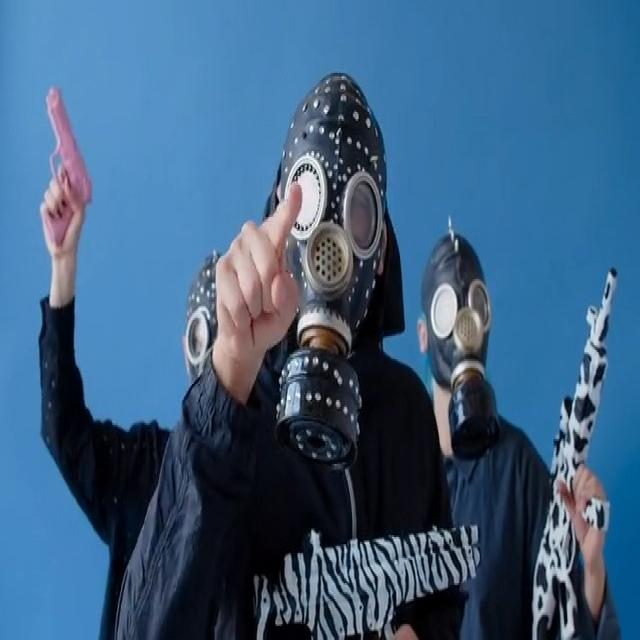Gun_Holder: (511, 246, 638, 640), (29, 78, 106, 284)
Person: (126, 57, 457, 640), (415, 213, 615, 640)
